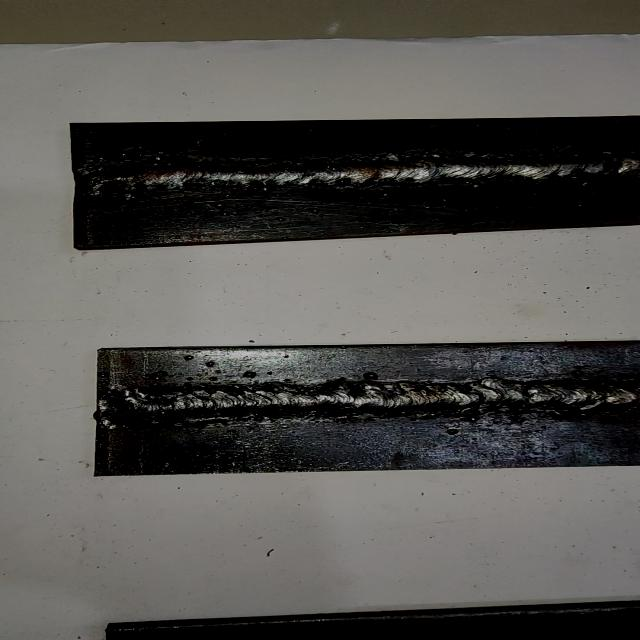Bad Weld: (83, 152, 640, 192), (107, 383, 640, 419)
Defect: (73, 142, 234, 166), (201, 192, 243, 219), (140, 367, 181, 388)
